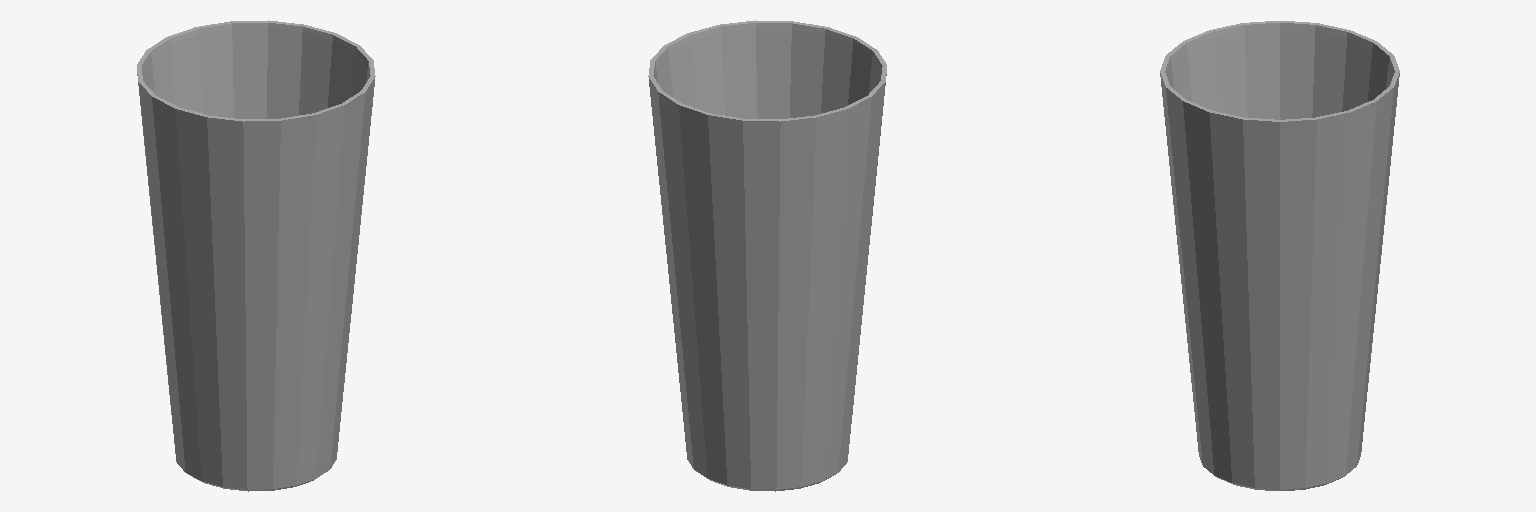
URDF robot description (plastic_glass):
<robot name="plastic_glass">
  <link name="plastic_glass">
    <collision>
      <geometry>
        <mesh filename="plastic_glass_collision.stl" />
      </geometry>
    </collision>
    <visual>
      <geometry>
        <mesh filename="plastic_glass_visual.dae" />
      </geometry>
    </visual>
  </link>
</robot>

--- What the picture shows (computed from the rendered views, not written in the file) ---
3 views of the same robot in one strip: view 1: azimuth 30°, elevation 25°; view 2: azimuth 150°, elevation 25°; view 3: azimuth 270°, elevation 25° (orthographic).
Robot: plastic_glass — 1 links, 0 joints (none); root link plastic_glass; default pose: all joints at 0.
Links seen in each view (by area): view 1: plastic_glass; view 2: plastic_glass; view 3: plastic_glass.
Boxes of the visible links, box(x1,y1,x2,y2) form: plastic_glass: box(137, 20, 375, 491); plastic_glass: box(648, 20, 886, 491); plastic_glass: box(1160, 21, 1399, 490).
Size in the robot's own frame: 0.001 by 0.001 by 0.0017 metres.
1 mesh visuals loaded from 1 distinct referenced files (1 Collada DAE).